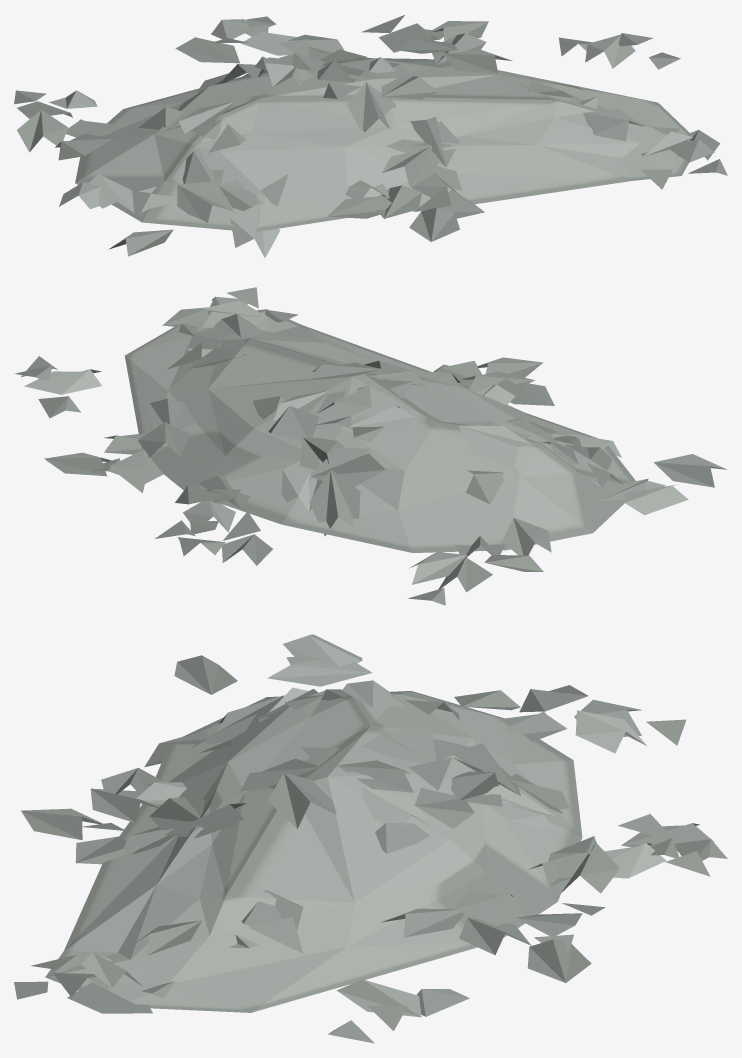
Rendered from SM_Gen_Env_Leaves_Pile_01.glb.
3 renders of one model, top to bottom at view 1: azimuth 30°, elevation 25°; view 2: azimuth 150°, elevation 25°; view 3: azimuth 270°, elevation 25°, orthographic. The views are drawn at different scales.
Visible parts, largest first — view 1: SM_Gen_Env_Leaves_Pile_01; view 2: SM_Gen_Env_Leaves_Pile_01; view 3: SM_Gen_Env_Leaves_Pile_01.
Boxes of the visible parts, box(x1,y1,x2,y2) form: SM_Gen_Env_Leaves_Pile_01: box(14, 14, 727, 257); SM_Gen_Env_Leaves_Pile_01: box(14, 287, 727, 605); SM_Gen_Env_Leaves_Pile_01: box(14, 634, 727, 1043).
Bounding box in the file's own units: 2.43 × 0.3138 × 1.89.
1 material, 1 textured.
